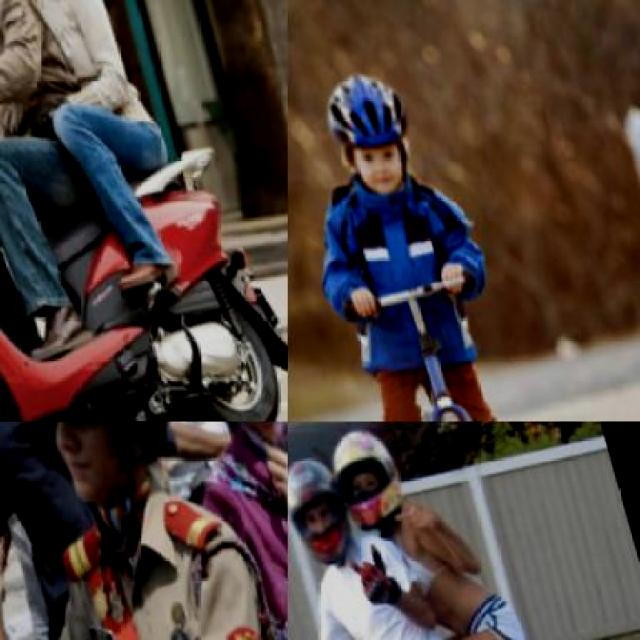With Helmet: (3, 422, 192, 518), (312, 60, 428, 209), (318, 422, 416, 541), (287, 454, 358, 574)
